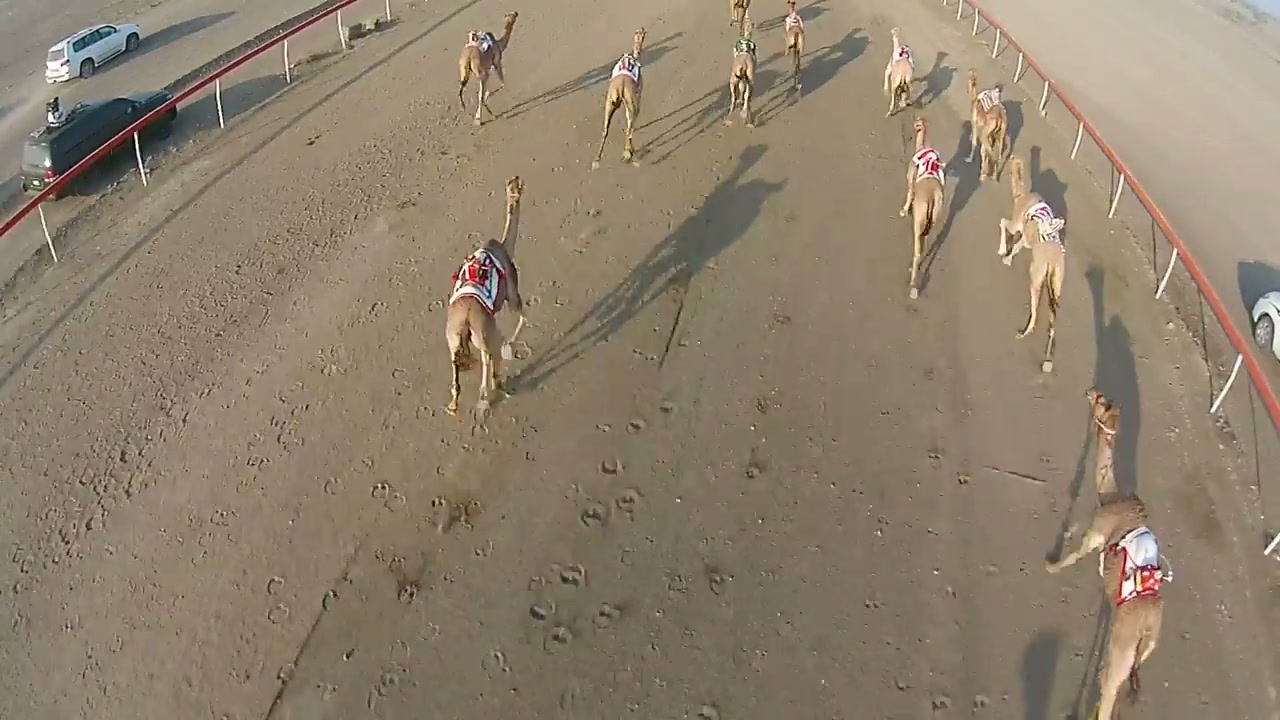animal_footprint: (469, 129, 842, 686), (97, 277, 518, 719), (26, 149, 357, 609)
